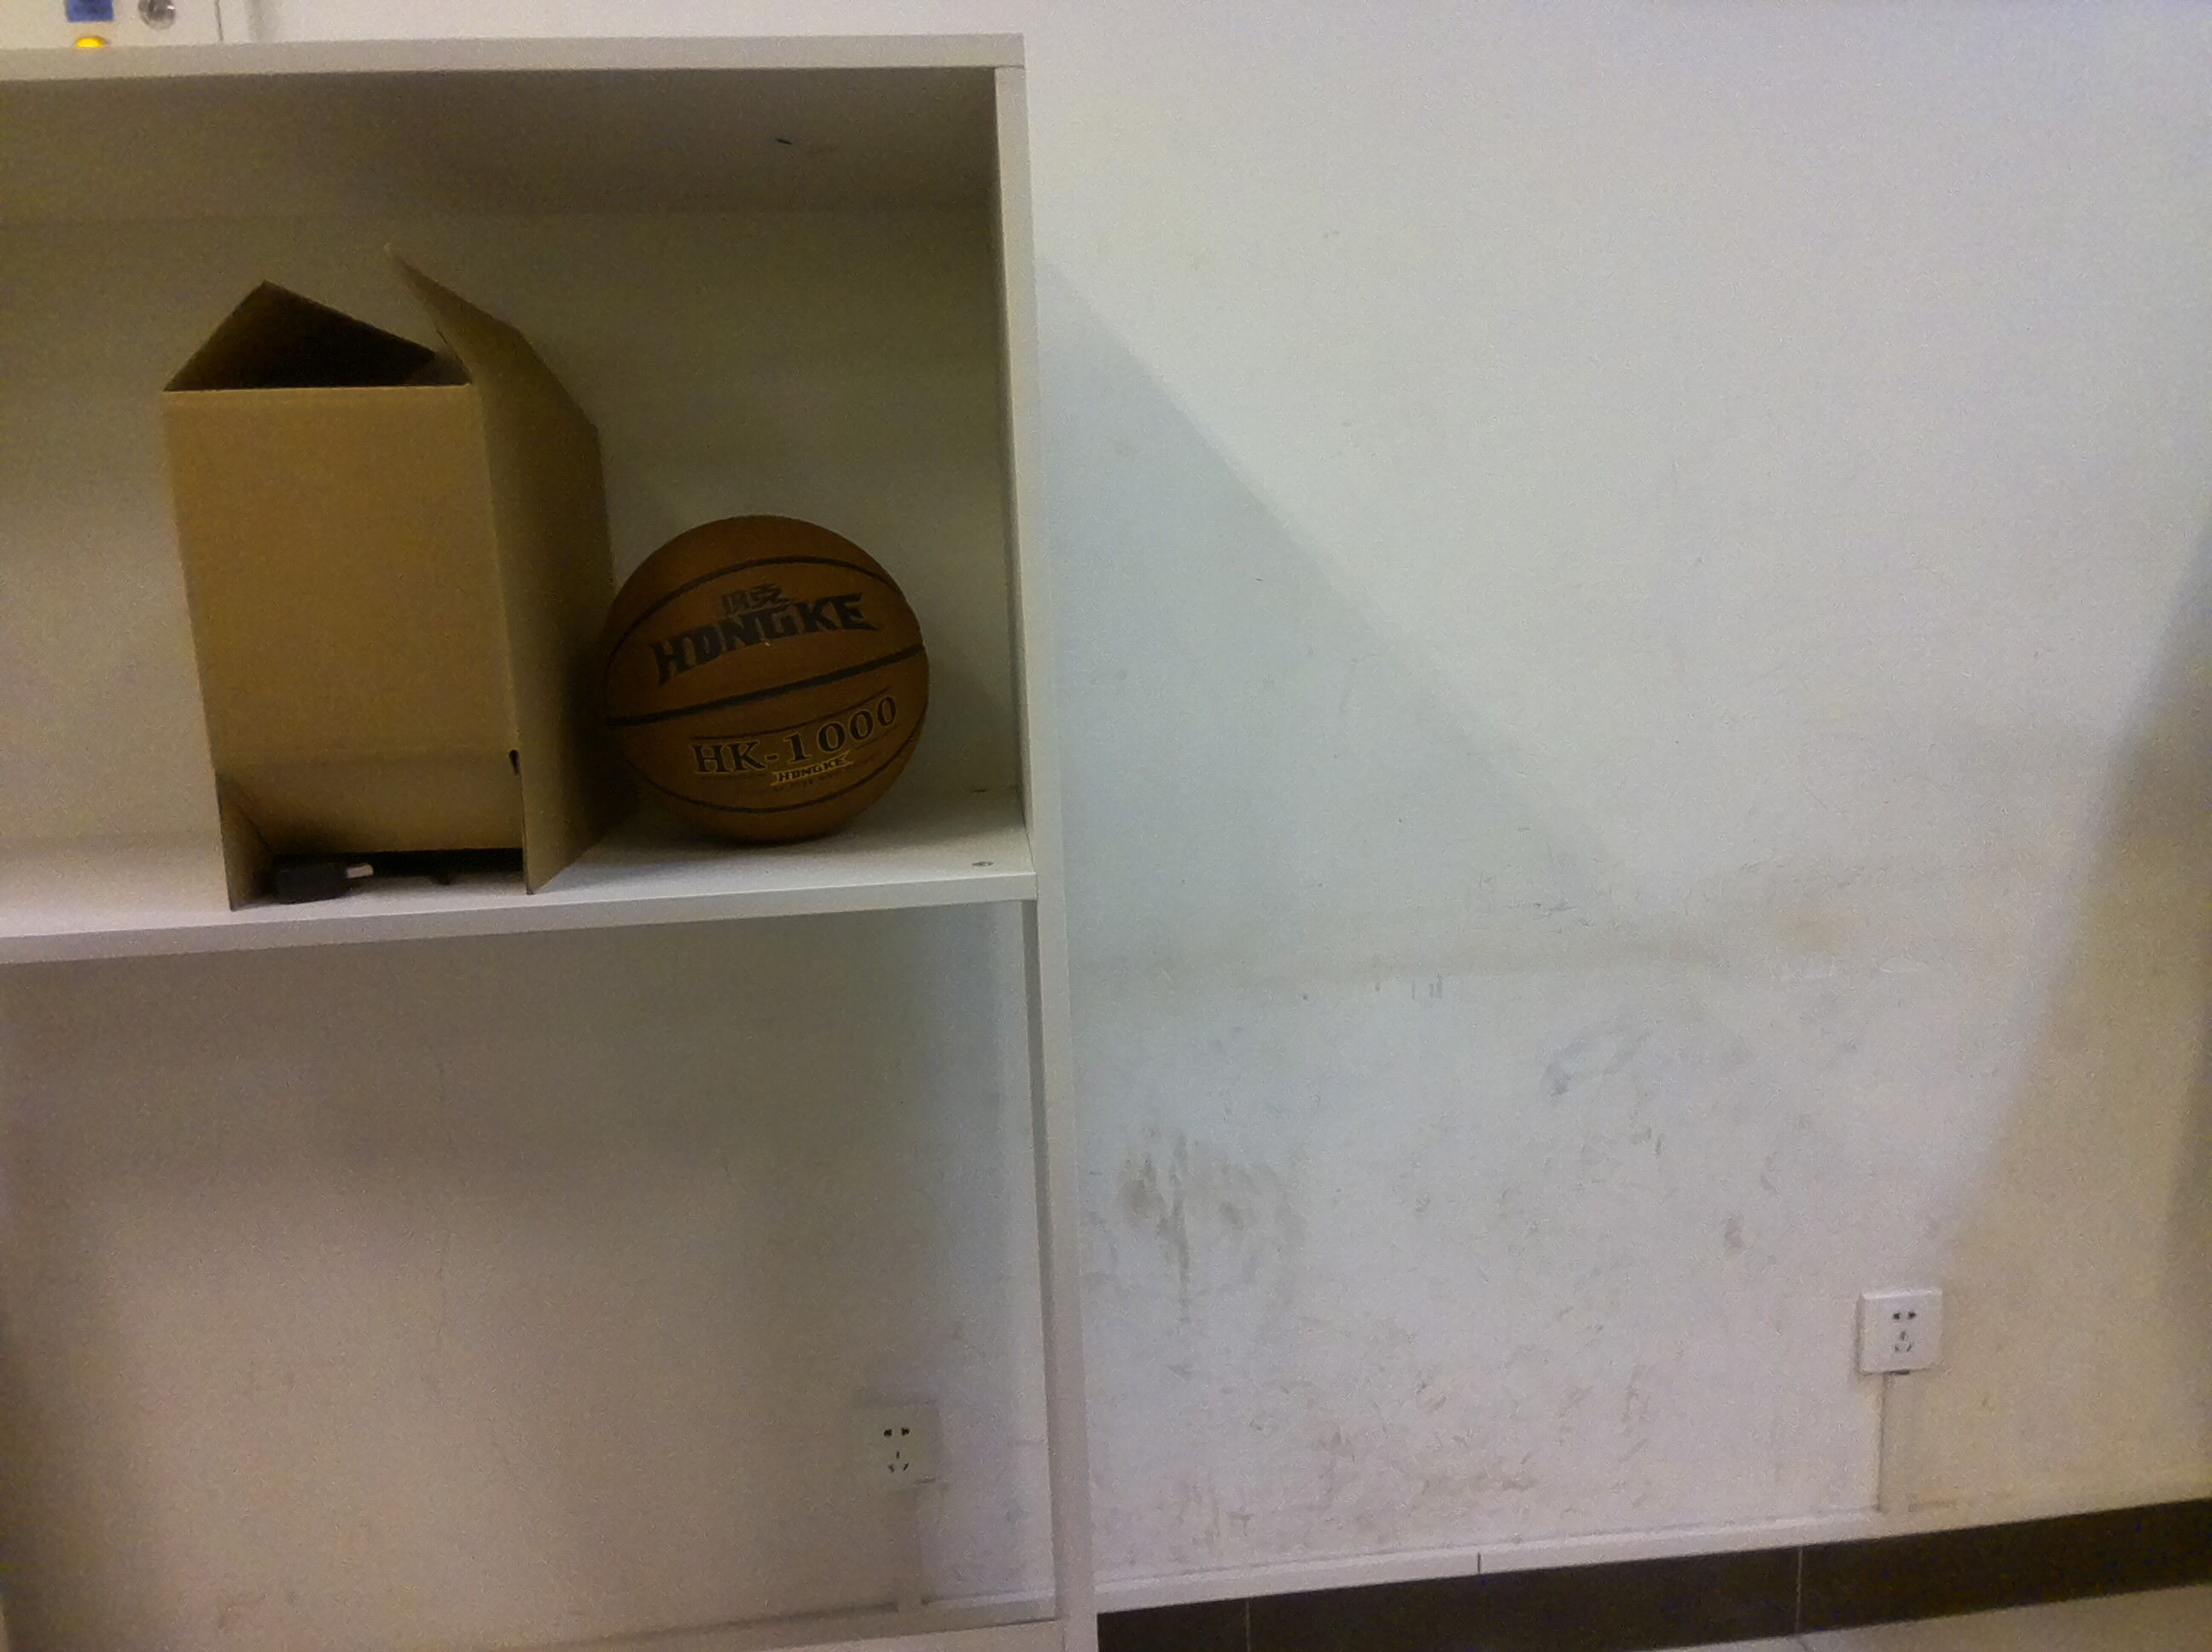basketball: (585, 495, 942, 854)
